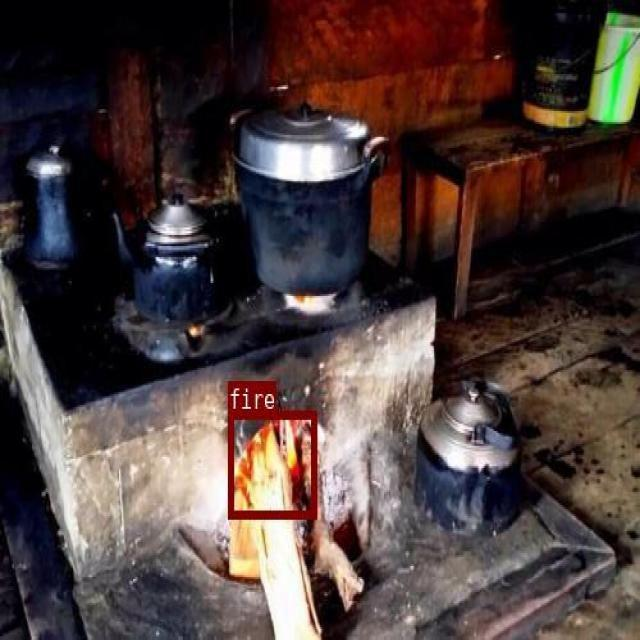fire: (228, 410, 316, 518)
